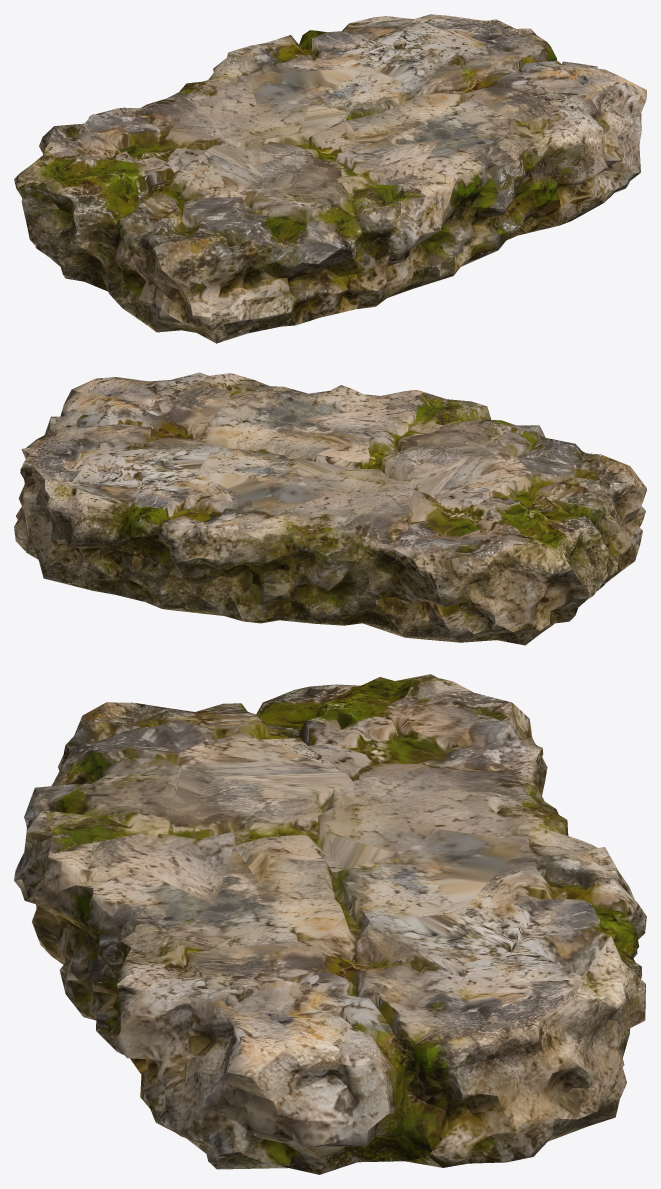
Rendered from ROC_RocaPlana_01_LOD1.fbx.
The picture shows the model from 3 angles, top to bottom: view 1: azimuth 30°, elevation 25°; view 2: azimuth 150°, elevation 25°; view 3: azimuth 270°, elevation 25°; orthographic projection. The views are drawn at different scales.
Parts seen in each view (by area): view 1: ROC_RocaPlana_01_Mesh000; view 2: ROC_RocaPlana_01_Mesh000; view 3: ROC_RocaPlana_01_Mesh000.
Part boxes in pixels (x1,y1,x2,y2): ROC_RocaPlana_01_Mesh000: (14,14,646,343); ROC_RocaPlana_01_Mesh000: (14,372,646,645); ROC_RocaPlana_01_Mesh000: (14,674,646,1174).
Size of the model in its own units: 2.2 by 0.3846 by 1.47.
